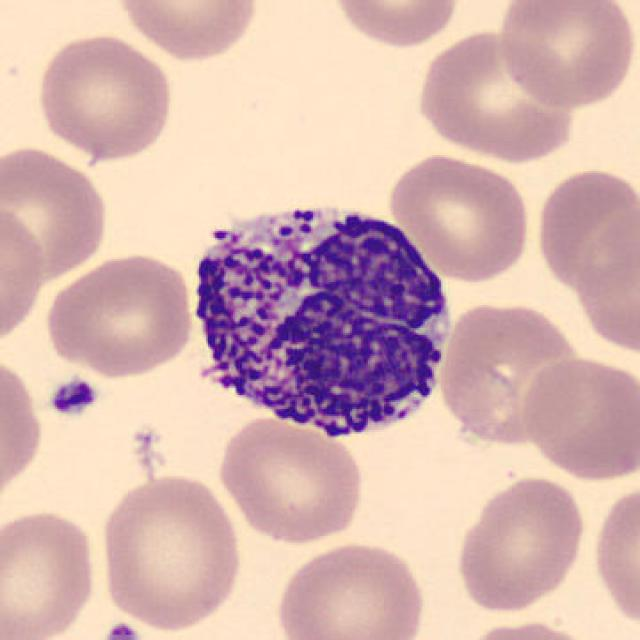Basophil: (178, 182, 464, 453)
Platelets: (46, 374, 100, 419), (99, 620, 142, 640)
RBC: (94, 470, 247, 634), (436, 298, 590, 450), (413, 25, 583, 162), (213, 412, 368, 546), (41, 250, 197, 381), (384, 150, 533, 284), (32, 30, 178, 164), (452, 472, 588, 614), (270, 537, 430, 640), (494, 0, 638, 109), (0, 141, 112, 280), (519, 354, 638, 483), (0, 504, 101, 640), (532, 162, 636, 294), (569, 194, 640, 360), (110, 0, 261, 63), (588, 478, 640, 635), (0, 349, 46, 511), (0, 199, 48, 349), (327, 0, 464, 49), (453, 617, 601, 640)
